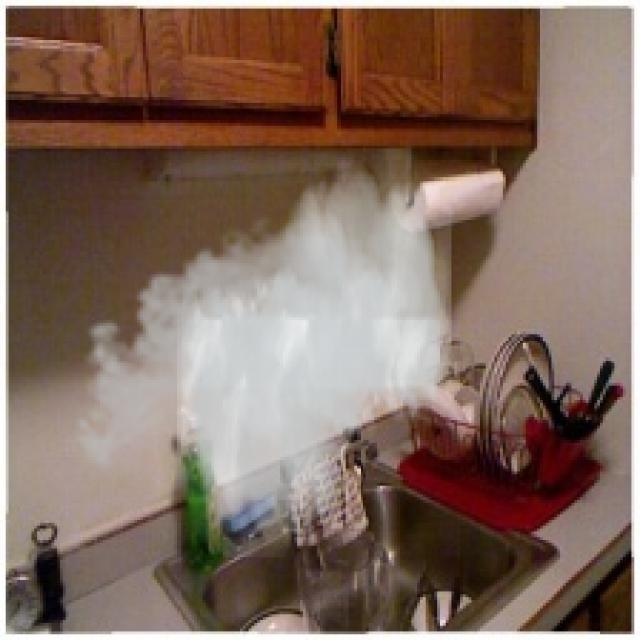Smoke: (62, 148, 452, 558)
